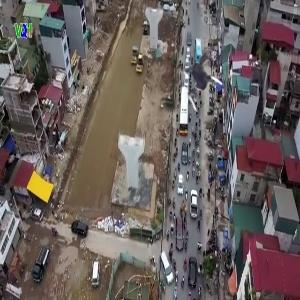drone: (173, 49, 232, 108)
